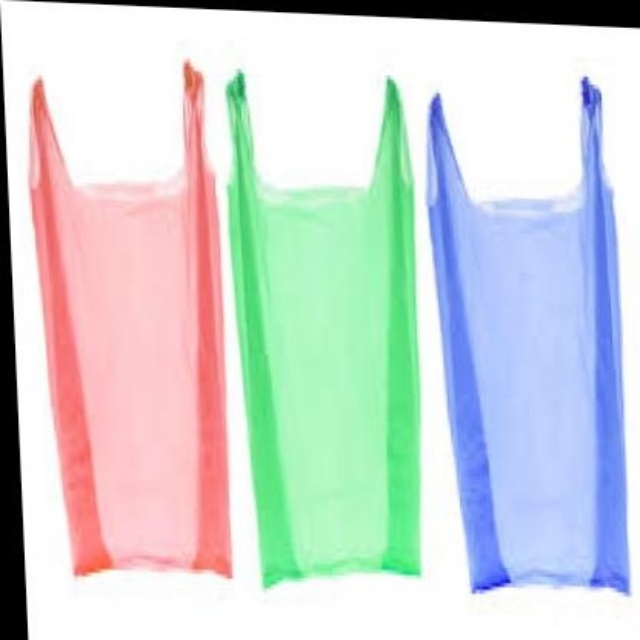trash: (428, 78, 628, 591), (29, 65, 229, 574), (226, 74, 418, 585)
